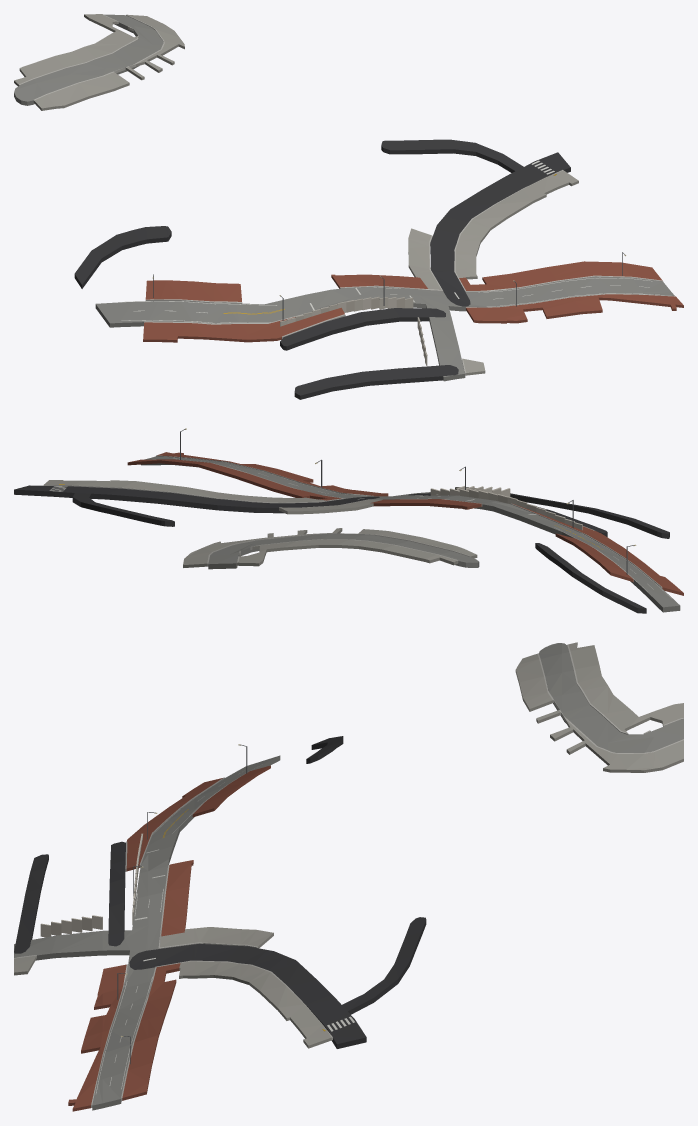
3 views of the same model, one above another, from view 1: azimuth 30°, elevation 25°; view 2: azimuth 150°, elevation 25°; view 3: azimuth 270°, elevation 25° (orthographic). The views are drawn at different scales.
Bounding box in the file's own units: 147 × 52.05 × 146.
